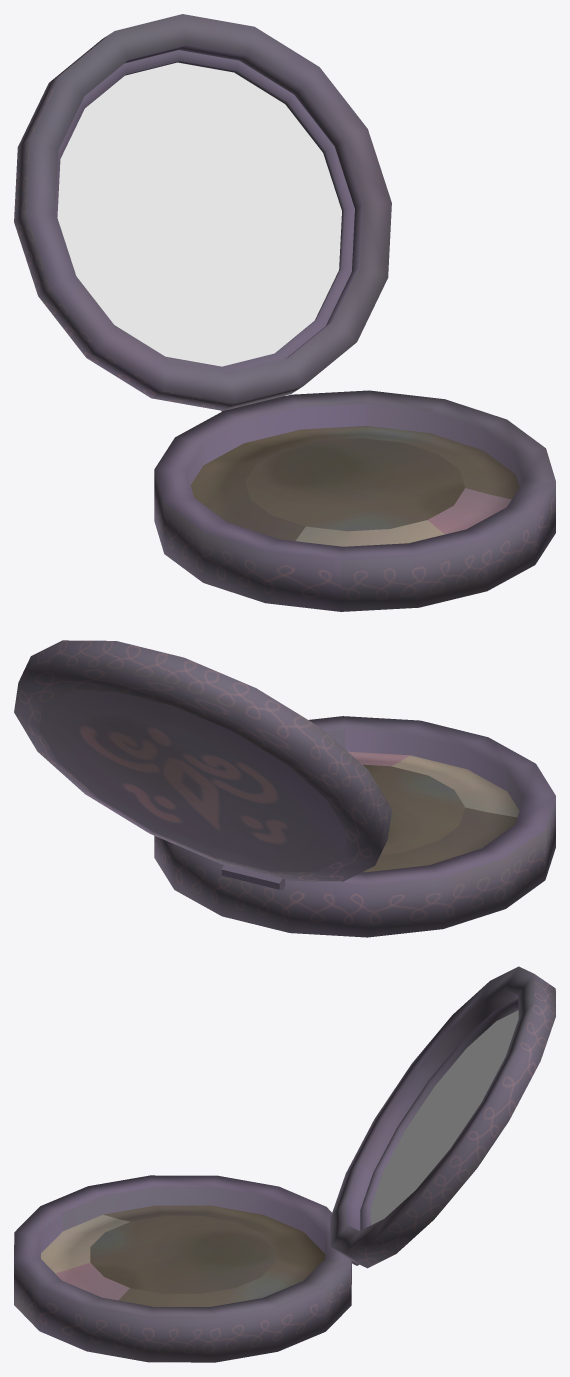
File: meikkipaletti.fbx
3 renders of one model, top to bottom at view 1: azimuth 30°, elevation 25°; view 2: azimuth 150°, elevation 25°; view 3: azimuth 270°, elevation 25°, orthographic. The views are drawn at different scales.
Visible parts, largest first — view 1: meikkipaletti, meikkipaletti_pikkupeili; view 2: meikkipaletti; view 3: meikkipaletti, meikkipaletti_pikkupeili.
Boxes of the visible parts, box(x1,y1,x2,y2) form: meikkipaletti: box(14, 14, 555, 611); meikkipaletti_pikkupeili: box(57, 62, 341, 366); meikkipaletti: box(14, 640, 555, 937); meikkipaletti: box(14, 966, 555, 1362); meikkipaletti_pikkupeili: box(370, 1010, 518, 1225).
Size of the model in its own units: 11.78 by 11.65 by 18.89.
1 material, 1 textured.
